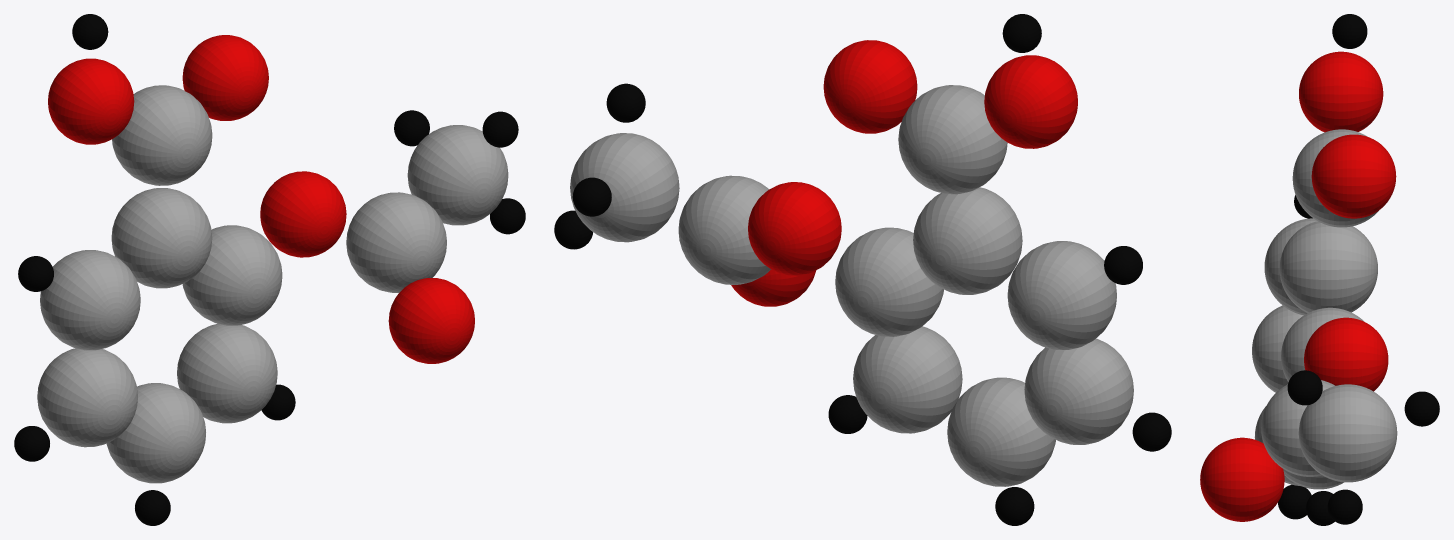
The model's file is Acetylsalicylic Acid.glb.
3 renders of one model, left to right at view 1: azimuth 30°, elevation 25°; view 2: azimuth 150°, elevation 25°; view 3: azimuth 270°, elevation 25°, orthographic. The views are drawn at different scales.
Parts seen in each view (by area): view 1: world; view 2: world; view 3: world.
Boxes of the visible parts, <box> form: world: <box>14,14,525,525</box>; world: <box>554,14,1171,525</box>; world: <box>1200,14,1439,525</box>.
Bounding box in the file's own units: 8.58 × 7.61 × 3.4.
